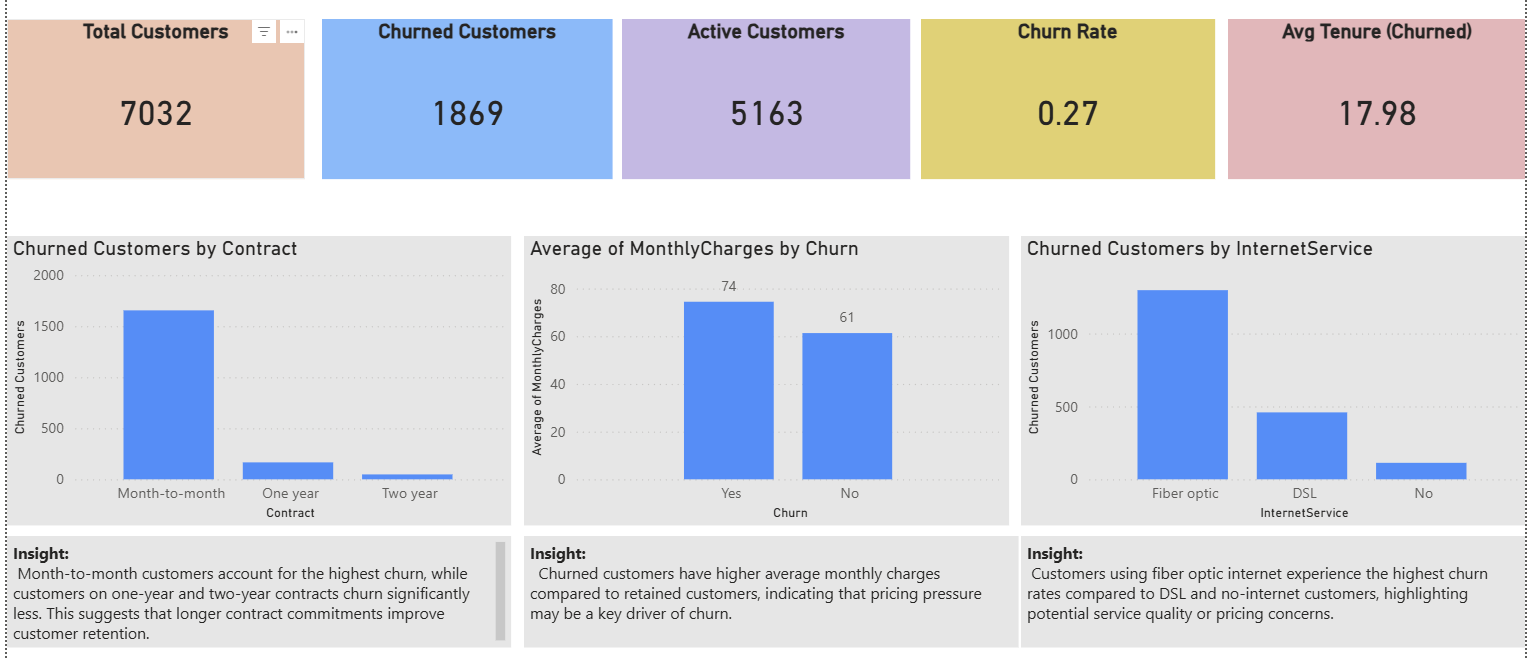

This screenshot's page, from the dashboard's own definition file:
{"tool":"powerbi","page":{"name":"telco_churn_analysis","canvas":[1280,720],"ordinal":0},"visuals":[{"type":"card","title":"Total Customers","fields":{"Values":["Telco-Customer-Churn.Total Customers"]},"box":[0,0,250.9,135.2],"z":0},{"type":"card","title":"Churned Customers","fields":{"Values":["Telco-Customer-Churn.Churned Customers"]},"box":[259.7,0,245.1,135.2],"z":1},{"type":"card","title":"Active Customers","fields":{"Values":["Telco-Customer-Churn.Active Customers"]},"box":[518.4,0,243.2,135.2],"z":2},{"type":"card","title":"Churn Rate","fields":{"Values":["Telco-Customer-Churn.Churn Rate %"]},"box":[770.3,0,247.1,135.2],"z":3},{"type":"card","title":"Avg Tenure (Churned)","fields":{"Values":["Telco-Customer-Churn.Avg Tenure (Churned)"]},"box":[1029.1,0,250.9,135.2],"z":4},{"type":"clusteredColumnChart","fields":{"Category":["Telco-Customer-Churn.Contract"],"Y":["Telco-Customer-Churn.Churned Customers"]},"box":[0,207.2,425,244.1],"z":5},{"type":"clusteredColumnChart","fields":{"Category":["Telco-Customer-Churn.Churn"],"Y":["Avg(Telco-Customer-Churn.MonthlyCharges)"]},"box":[435.7,207.2,409.5,244.1],"z":6},{"type":"clusteredColumnChart","fields":{"Category":["Telco-Customer-Churn.InternetService"],"Y":["Telco-Customer-Churn.Churned Customers"]},"box":[855,207.2,425,244.1],"z":7},{"type":"textbox","box":[855,460.1,425,94.3],"z":8},{"type":"textbox","box":[435.7,460.1,417.3,94.3],"z":9},{"type":"textbox","box":[0,460.1,425,94.3],"z":10}]}

Visuals, with their boxes on the page's 1280x720 design canvas (x1, y1, x2, y2). These are canvas units, not pixel positions in the 1530x660 screenshot, which may show the page scaled, cropped or inside an application window:
"Total Customers" card: 0 0 251 135
"Churned Customers" card: 260 0 505 135
"Active Customers" card: 518 0 762 135
"Churn Rate" card: 770 0 1017 135
"Avg Tenure (Churned)" card: 1029 0 1280 135
clusteredColumnChart - Telco-Customer-Churn.Contract x Telco-Customer-Churn.Churned Customers: 0 207 425 451
clusteredColumnChart - Telco-Customer-Churn.Churn x Avg(Telco-Customer-Churn.MonthlyCharges): 436 207 845 451
clusteredColumnChart - Telco-Customer-Churn.InternetService x Telco-Customer-Churn.Churned Customers: 855 207 1280 451
textbox: 855 460 1280 554
textbox: 436 460 853 554
textbox: 0 460 425 554
